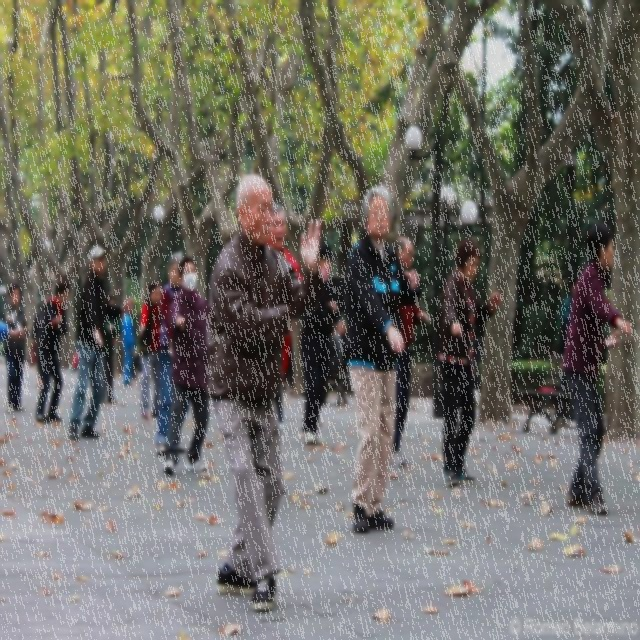pessoa: (203, 168, 324, 617), (342, 182, 424, 538), (559, 217, 633, 517), (436, 235, 504, 490), (263, 198, 332, 428), (66, 243, 136, 444), (162, 254, 210, 476), (390, 234, 432, 468), (299, 244, 340, 446), (156, 250, 192, 460), (34, 277, 72, 425), (2, 280, 30, 414), (138, 280, 164, 423), (324, 312, 354, 411), (102, 294, 124, 406), (558, 274, 582, 356), (31, 298, 50, 390), (122, 298, 136, 386), (279, 322, 296, 394), (348, 228, 364, 264), (129, 348, 146, 379), (566, 406, 582, 428), (67, 348, 80, 374), (144, 294, 150, 302)
